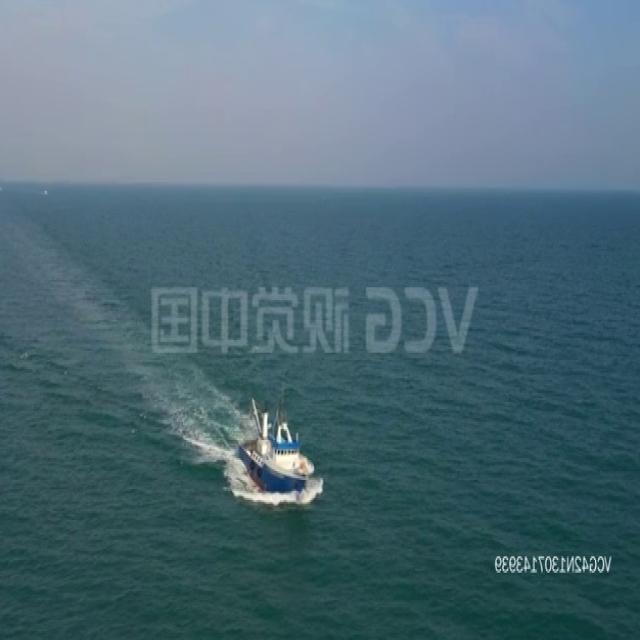houseboat: (240, 389, 314, 491)
